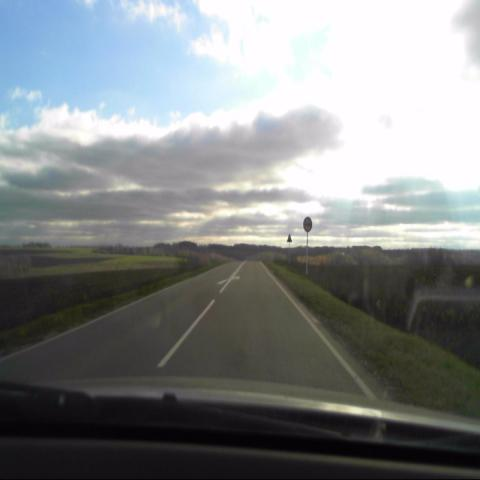3_20: (302, 216, 312, 233)
